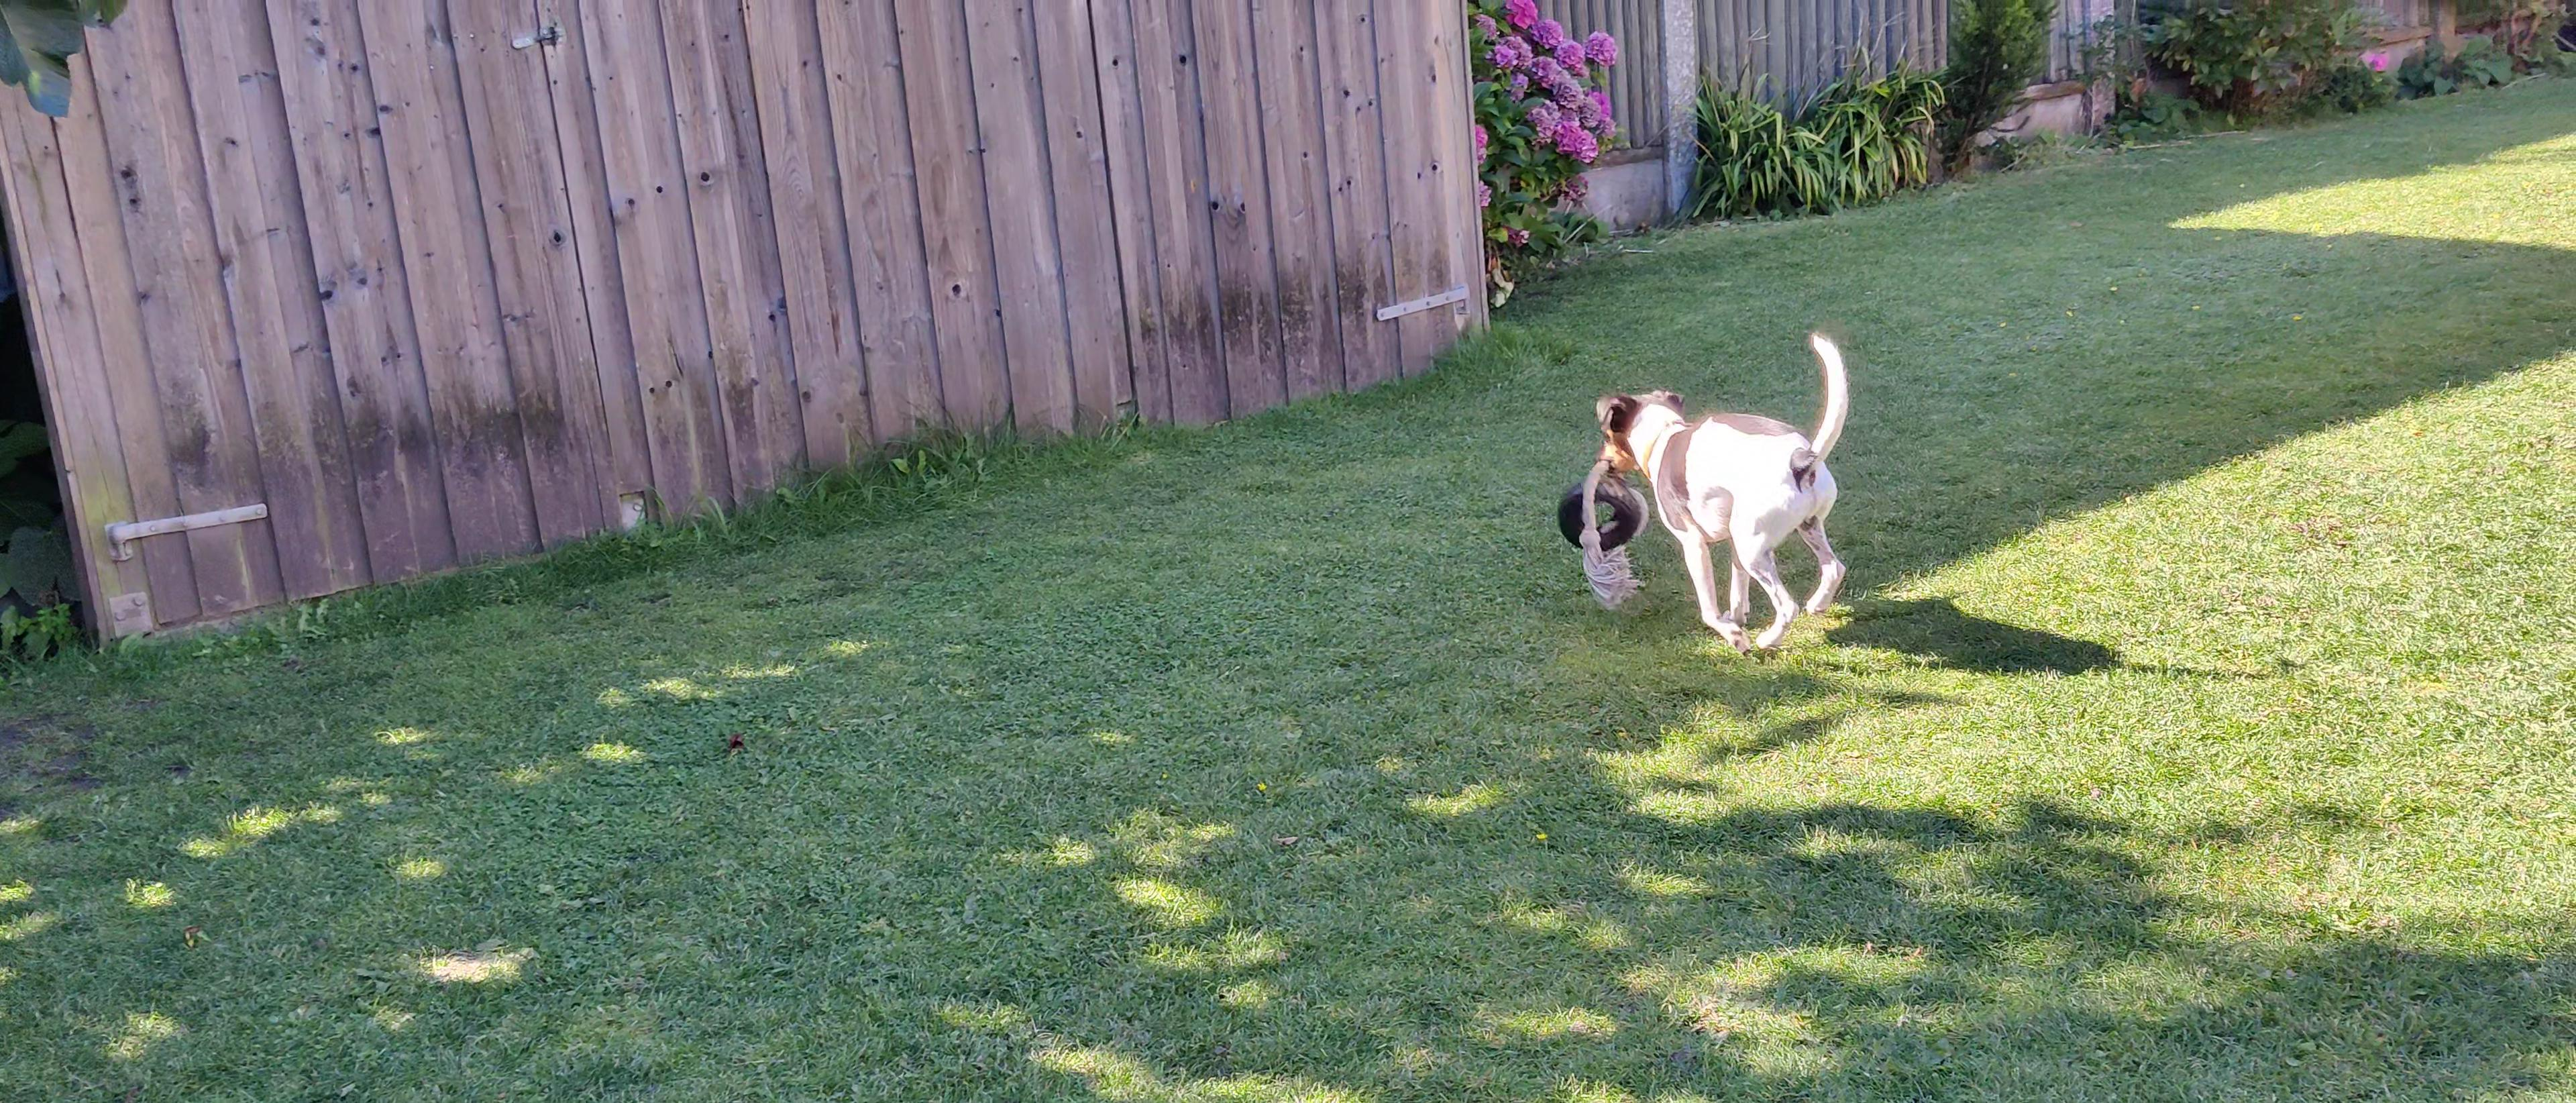Dog: (1574, 312, 1874, 682)
